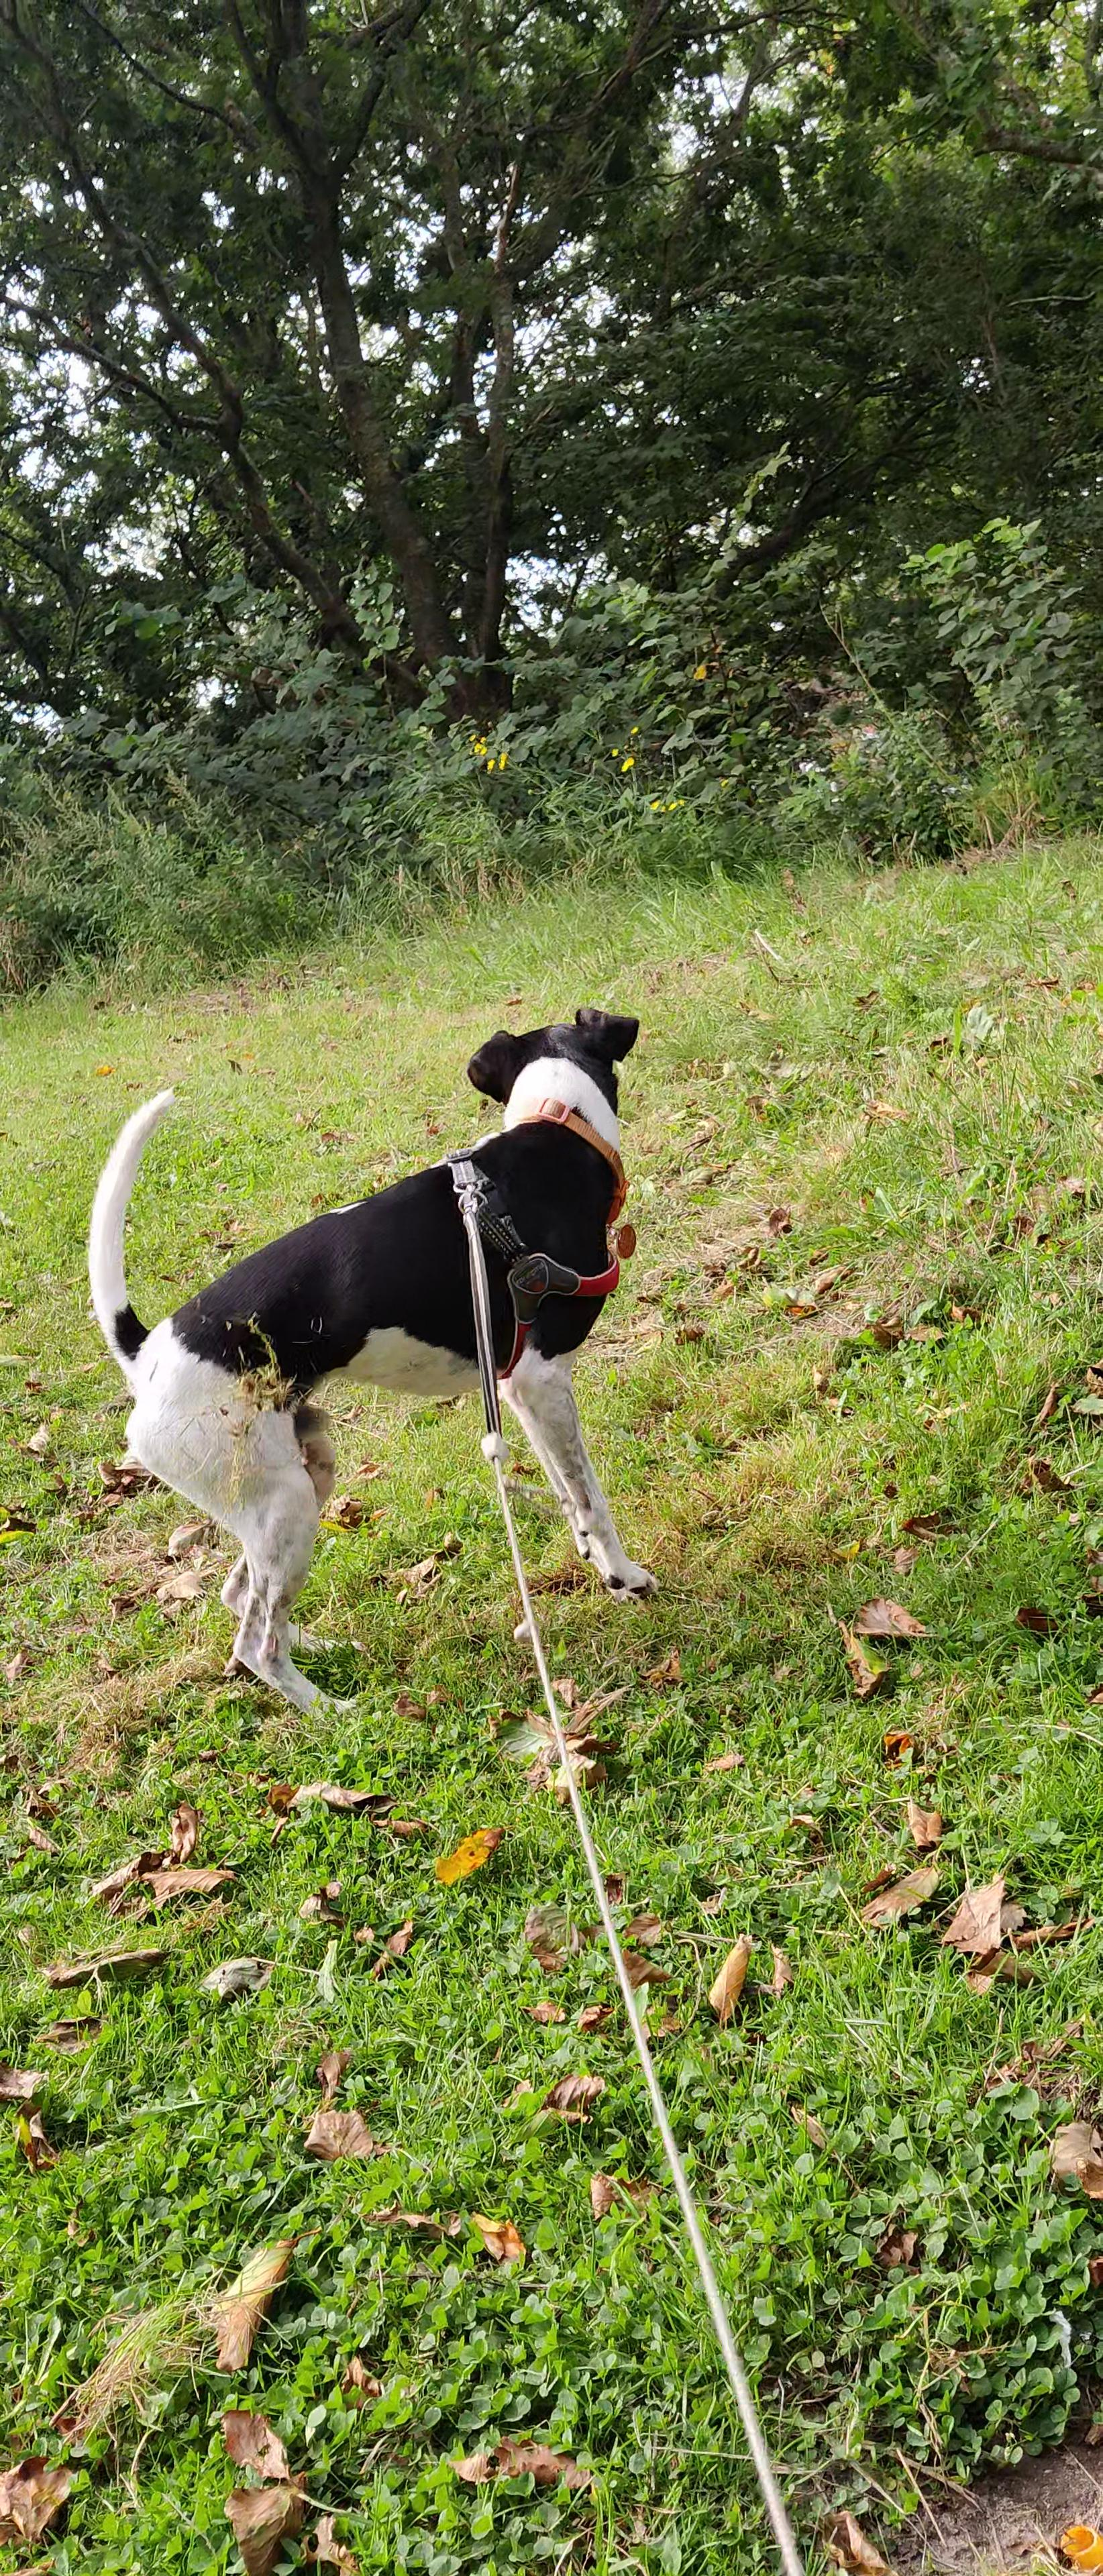Dog: (72, 1004, 682, 1735)
